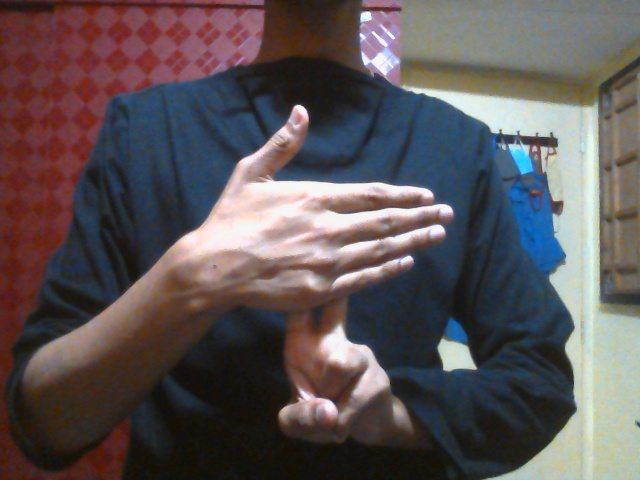N: (207, 102, 453, 449)
